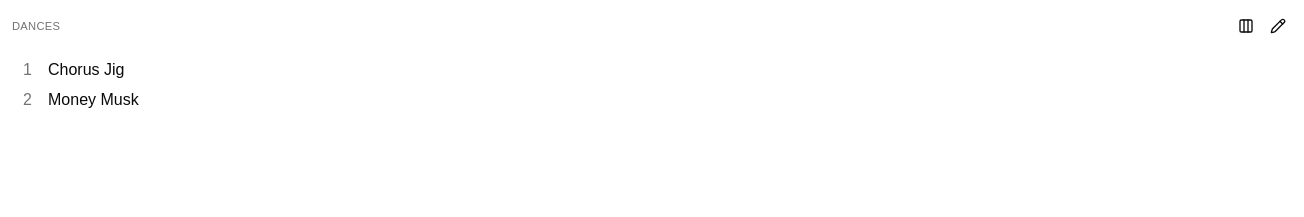
Test case: ProgramDanceLineup › edit mode › opens a search listing every dance not already in the lineup
The image size is (1304, 217).
What coordinates should you click on to do the following:
click the button named "Edit dances"
I would click on:
 (1278, 26)
Its box is x1=1264 y1=12 x2=1292 y2=40.
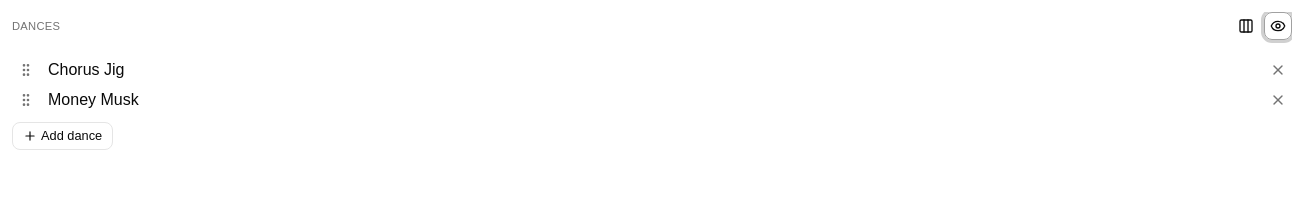
What coordinates should you click on to do the following:
click the button "Add dance"
I would click on:
 (63, 136)
Its box is x1=12 y1=122 x2=113 y2=150.
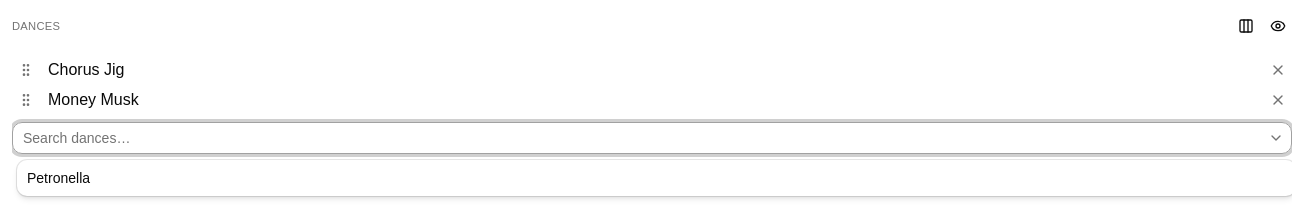
Expected: the option "Petronella" is shown, x1=27 y1=170 x2=90 y2=186
